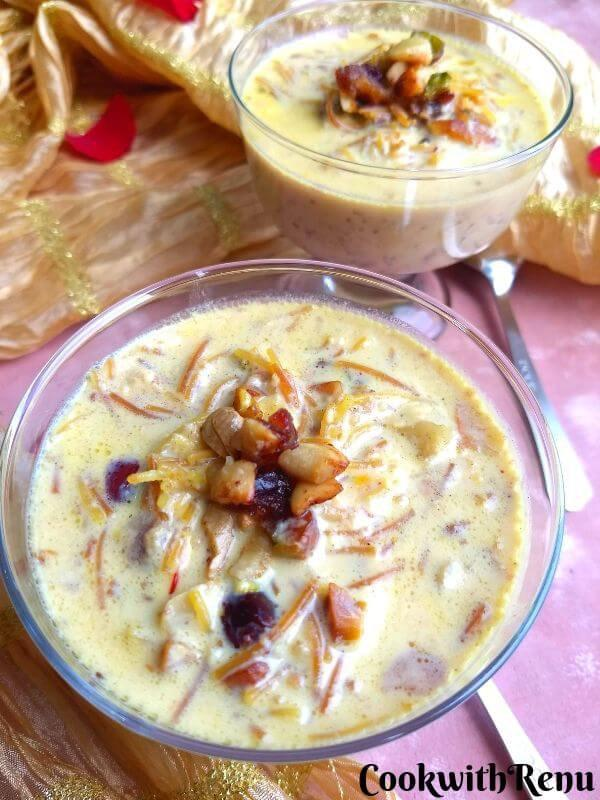Naan: (0, 263, 33, 443)
